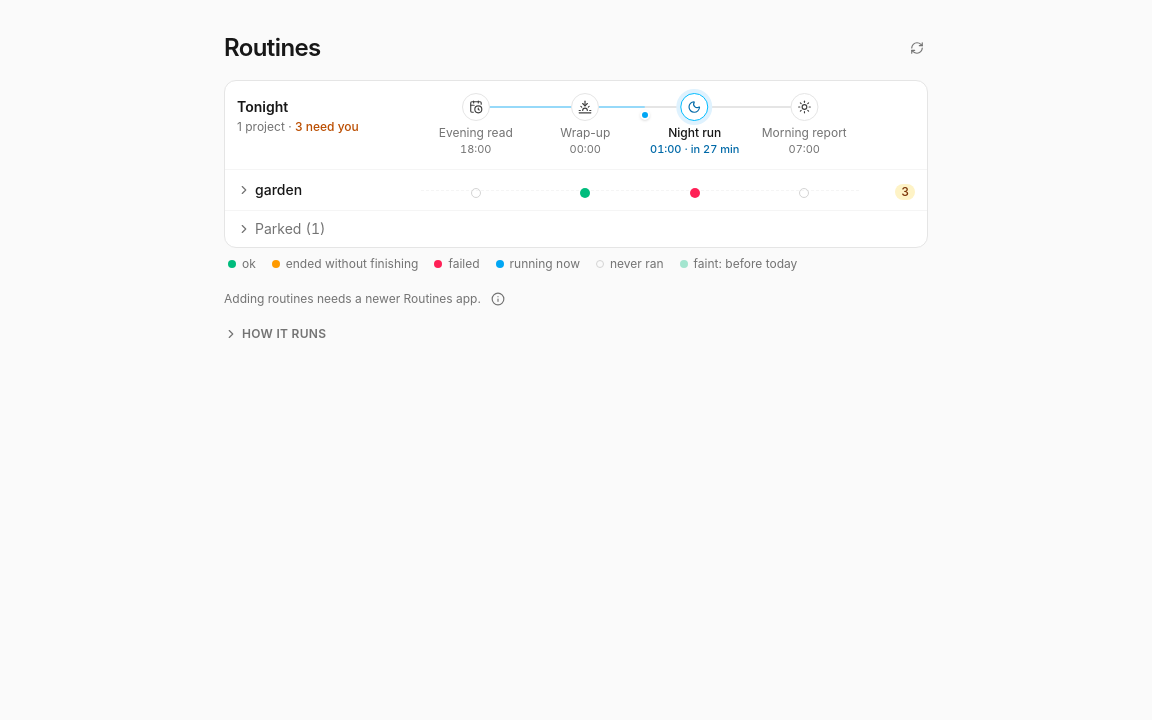
Test case: the Routines page › with an older Routines app: no adding, times saved as the schedule
The image size is (1152, 720).
Expected: the button "garden" is shown, [237,180,413,200]
Expected: the element showing "Adding routines needs a newer Routines app." is shown, [224,288,928,310]
Click the button named "Morning report at 07:00. Edit". click: (804, 107)
box: [790,93,818,121]
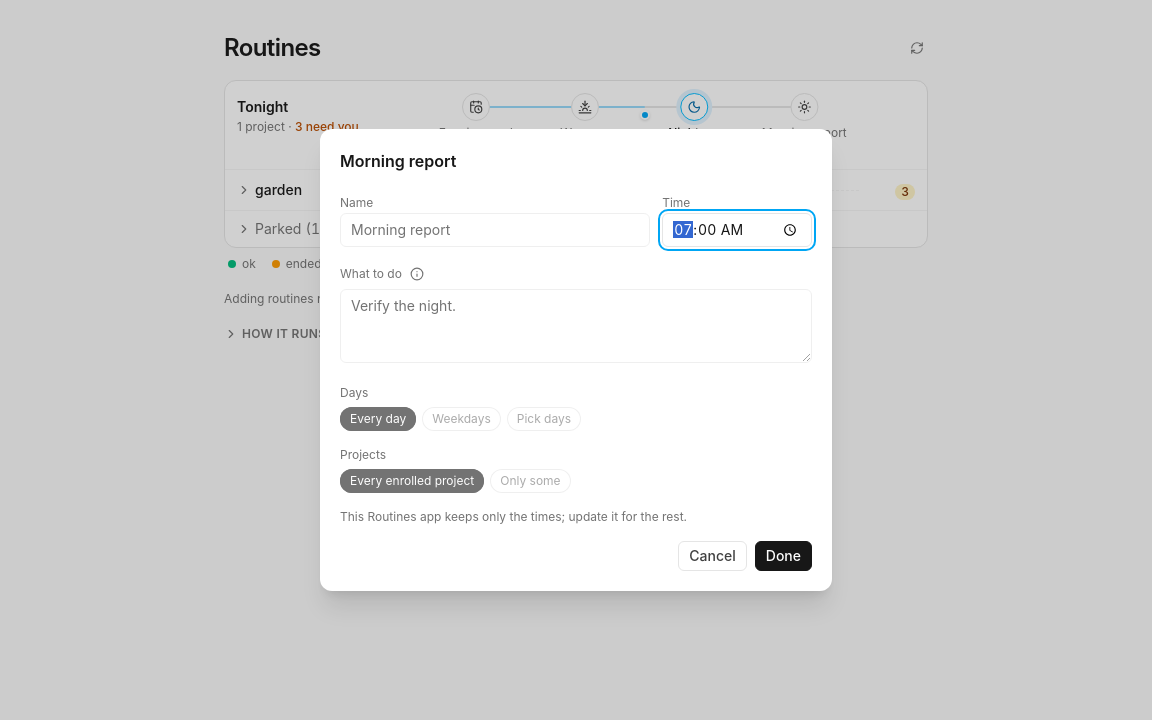
Result: the field with placeholder "Weekly review" is disabled at [340,213,650,247]
Replace the text in the time field labelled "Time" with "06:30". click: (737, 230)
box: [662,213,812,247]
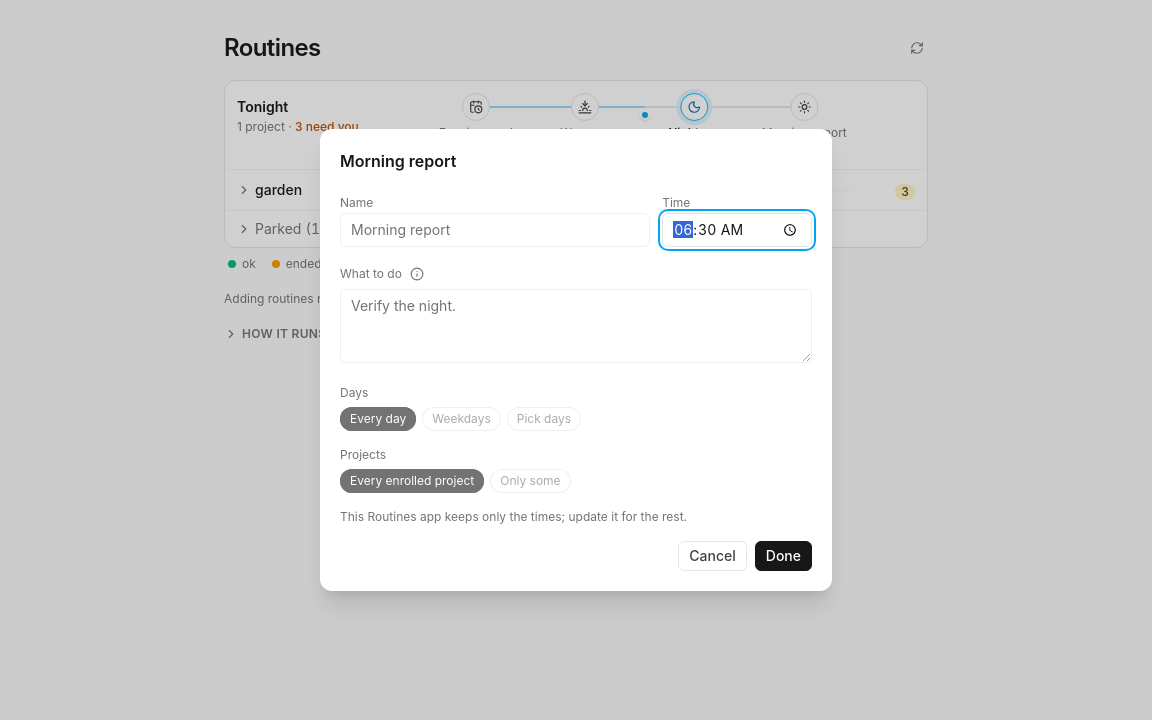
Click the button "Done". click: (783, 556)
box: [755,541,812,571]
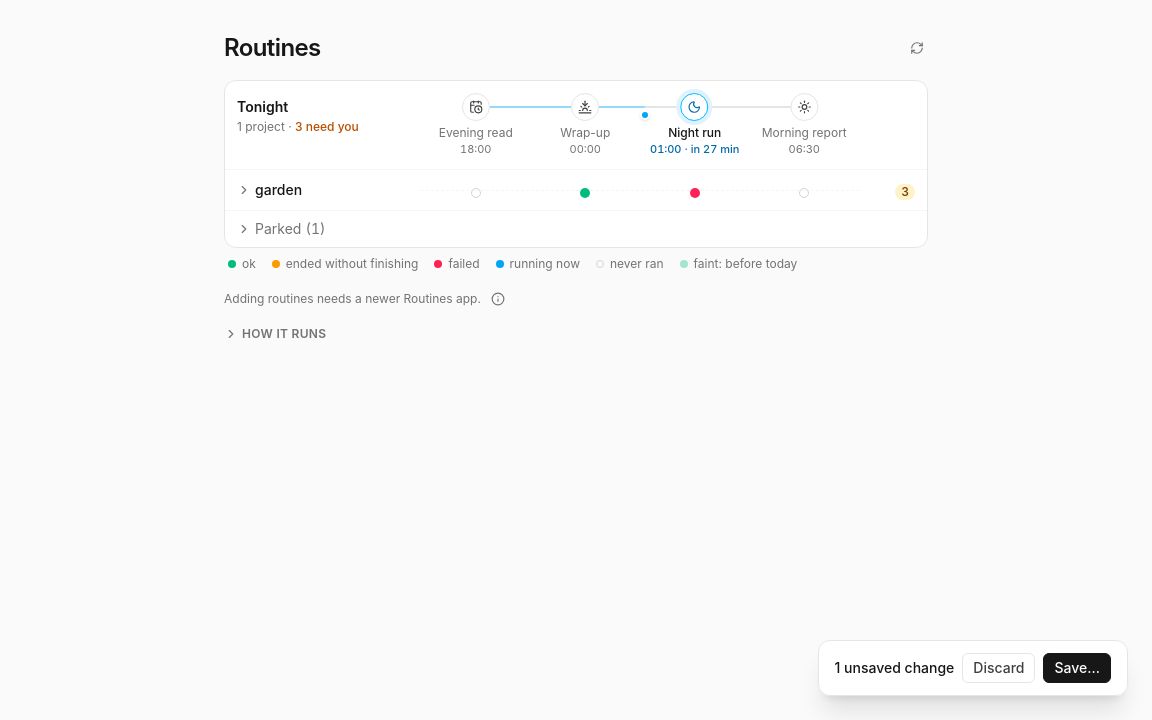
Click the button "Save…". click: (1077, 668)
box: [1044,653,1111,683]
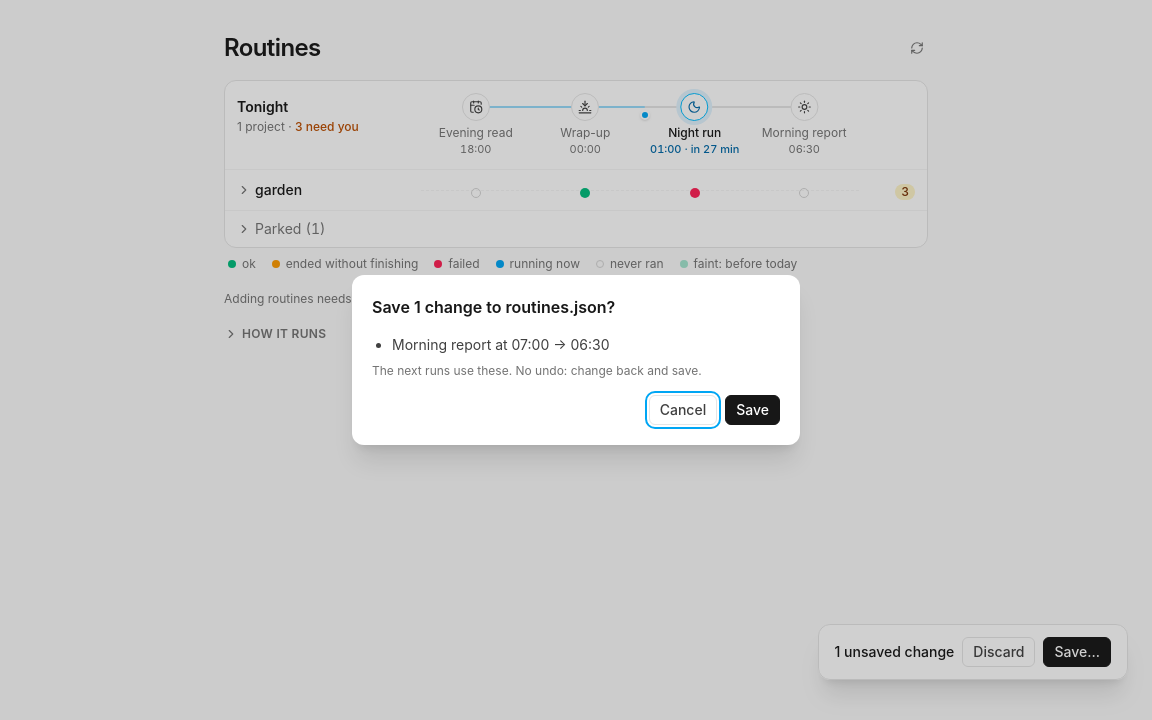
Click the button "Save". click: (753, 410)
box: [725,395,780,425]
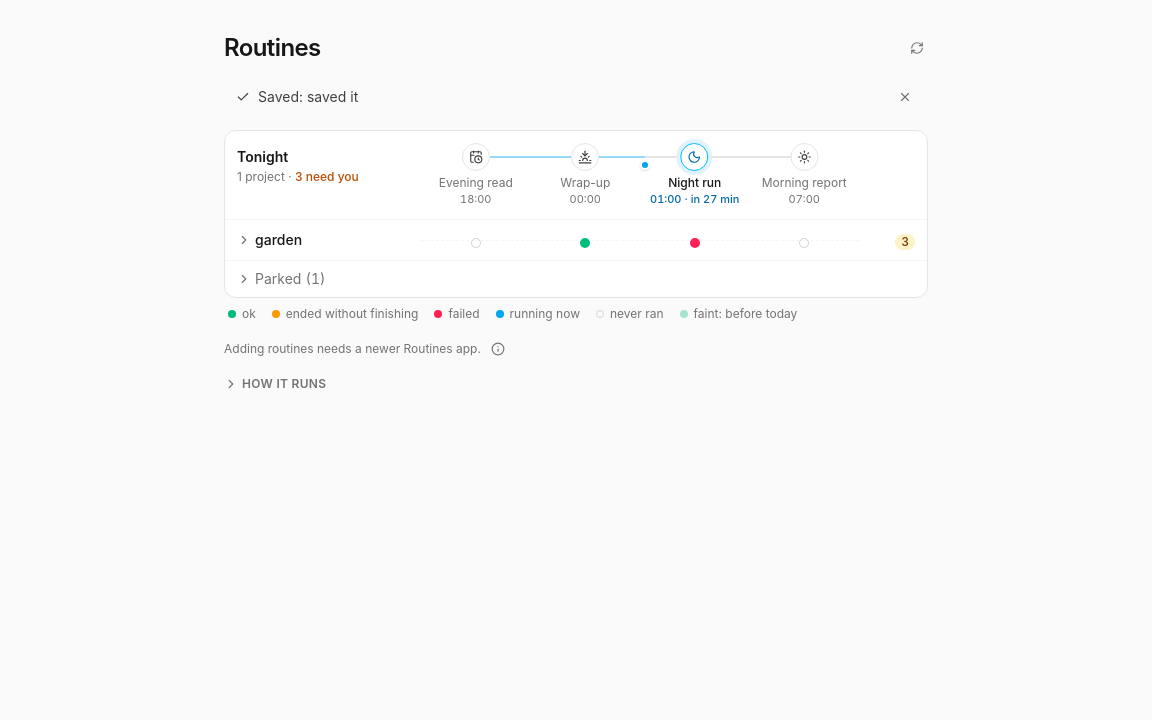
Result: the text "Saved: saved it" is shown at [258,88,358,105]
